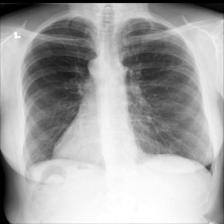normal: (17, 11, 215, 179)
